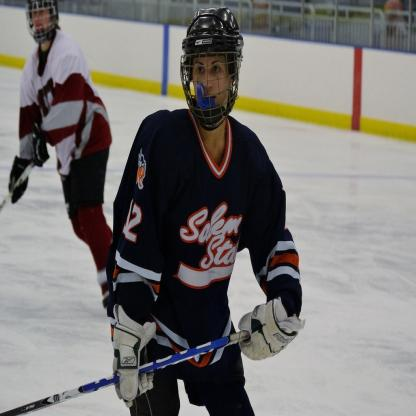Helmet: (179, 4, 244, 141), (24, 0, 62, 49)
